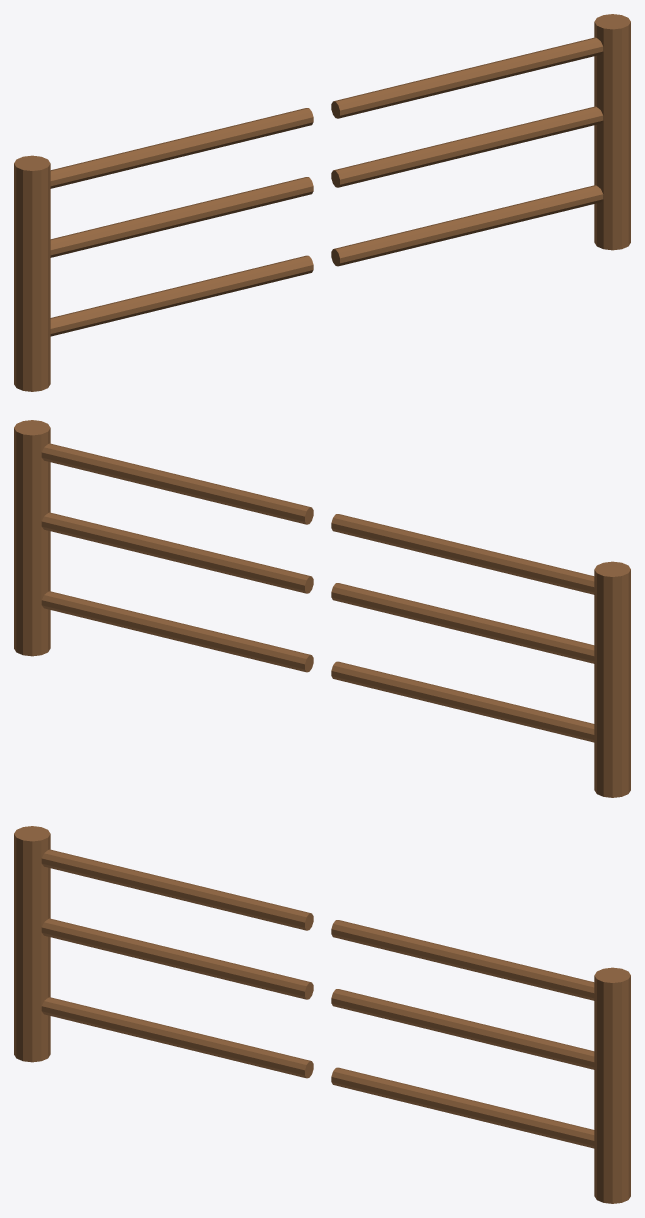
Rendered from dog-park-gate.glb.
3 views of the same model, one above another, from view 1: azimuth 30°, elevation 25°; view 2: azimuth 150°, elevation 25°; view 3: azimuth 330°, elevation 25° (orthographic).
Visible parts, largest first — view 1: Gate post, Gate post.001, Gate rail.003, Gate rail.004, Gate rail.005, Gate rail, Gate rail.002, Gate rail.001; view 2: Gate post, Gate post.001, Gate rail.003, Gate rail.004, Gate rail.005, Gate rail, Gate rail.002, Gate rail.001; view 3: Gate post.001, Gate post, Gate rail, Gate rail.001, Gate rail.002, Gate rail.003, Gate rail.005, Gate rail.004.
Part boxes in pixels (<box>): Gate post: <box>14,155,50,391</box>; Gate post.001: <box>594,14,630,250</box>; Gate rail.003: <box>331,185,603,266</box>; Gate rail.004: <box>331,106,603,187</box>; Gate rail.005: <box>331,37,603,118</box>; Gate rail: <box>50,255,313,336</box>; Gate rail.002: <box>50,108,313,188</box>; Gate rail.001: <box>50,177,313,257</box>; Gate post: <box>594,561,630,797</box>; Gate post.001: <box>14,420,50,656</box>; Gate rail.003: <box>41,591,313,672</box>; Gate rail.004: <box>41,512,313,593</box>; Gate rail.005: <box>41,443,313,524</box>; Gate rail: <box>331,661,594,742</box>; Gate rail.002: <box>331,514,594,594</box>; Gate rail.001: <box>331,583,594,663</box>; Gate post.001: <box>594,967,630,1203</box>; Gate post: <box>14,826,50,1062</box>; Gate rail: <box>41,997,313,1078</box>; Gate rail.001: <box>41,918,313,999</box>; Gate rail.002: <box>41,849,313,930</box>; Gate rail.003: <box>331,1067,594,1148</box>; Gate rail.005: <box>331,920,594,1000</box>; Gate rail.004: <box>331,989,594,1069</box>.
Bounding box in the file's own units: 4.64 × 1.6 × 0.24.
